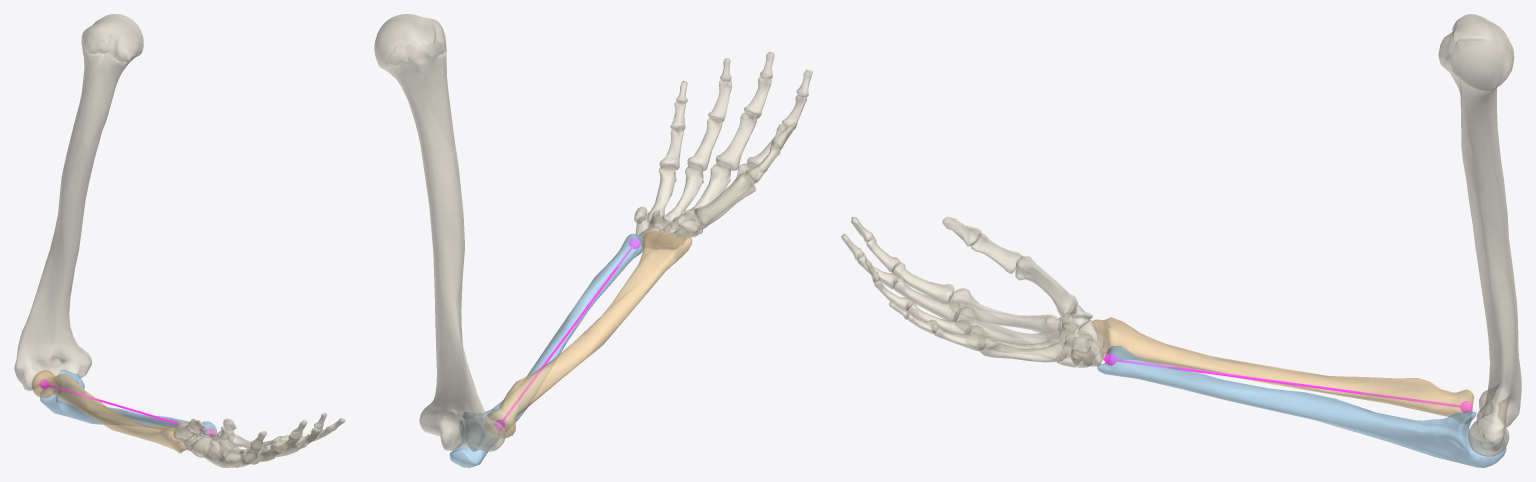
Rendered from forearm-headfit.glb.
3 renders of one model, left to right at view 1: azimuth 30°, elevation 25°; view 2: azimuth 150°, elevation 25°; view 3: azimuth 270°, elevation 25°, orthographic. The views are drawn at different scales.
Visible parts, largest first — view 1: Humerus.r-preview, Radius.r-preview, Ulna.r-preview, Second metacarpal bone.r-preview, Third metacarpal bone.l-preview, Proximal phalanx of third finger of hand-preview, Fifth metacarpal bone.r-preview, Proximal phalanx of second finger of hand-preview, Proximal phalanx of fourth finger of hand-preview, Estimated axis — non-anatomical review guide, Fourth metacarpal bone-preview; view 2: Humerus.r-preview, Radius.r-preview, Ulna.r-preview, First metacarpal bone-preview, Second metacarpal bone.r-preview, Proximal phalanx of third finger of hand-preview, Third metacarpal bone.l-preview, Fourth metacarpal bone-preview, Fifth metacarpal bone.r-preview, Proximal phalanx of fourth finger of hand-preview, Proximal phalanx of second finger of hand-preview, Proximal phalanx of fifth finger of hand-preview (+4 smaller); view 3: Humerus.r-preview, Ulna.r-preview, Radius.r-preview, Second metacarpal bone.r-preview, Third metacarpal bone.l-preview, First metacarpal bone-preview, Fourth metacarpal bone-preview, Fifth metacarpal bone.r-preview, Proximal phalanx of third finger of hand-preview, Estimated axis — non-anatomical review guide, Proximal phalanx of second finger of hand-preview, Proximal phalanx of first finger of hand-preview (+2 smaller).
Boxes of the visible parts, bbox=[...] form: Humerus.r-preview: bbox=[14, 14, 143, 390]; Radius.r-preview: bbox=[31, 370, 200, 453]; Ulna.r-preview: bbox=[40, 369, 216, 437]; Second metacarpal bone.r-preview: bbox=[191, 435, 239, 467]; Third metacarpal bone.l-preview: bbox=[205, 440, 259, 464]; Proximal phalanx of third finger of hand-preview: bbox=[246, 442, 285, 462]; Fifth metacarpal bone.r-preview: bbox=[226, 433, 286, 448]; Proximal phalanx of second finger of hand-preview: bbox=[224, 453, 254, 467]; Proximal phalanx of fourth finger of hand-preview: bbox=[264, 439, 304, 457]; Estimated axis — non-anatomical review guide: bbox=[46, 384, 205, 431]; Fourth metacarpal bone-preview: bbox=[219, 438, 274, 461]; Humerus.r-preview: bbox=[374, 14, 505, 451]; Radius.r-preview: bbox=[485, 230, 692, 438]; Ulna.r-preview: bbox=[449, 233, 645, 467]; First metacarpal bone-preview: bbox=[694, 172, 755, 226]; Second metacarpal bone.r-preview: bbox=[684, 163, 758, 229]; Proximal phalanx of third finger of hand-preview: bbox=[715, 112, 757, 170]; Third metacarpal bone.l-preview: bbox=[672, 164, 731, 235]; Fourth metacarpal bone-preview: bbox=[661, 166, 703, 229]; Fifth metacarpal bone.r-preview: bbox=[647, 165, 676, 223]; Proximal phalanx of fourth finger of hand-preview: bbox=[687, 117, 722, 171]; Proximal phalanx of second finger of hand-preview: bbox=[747, 124, 792, 172]; Proximal phalanx of fifth finger of hand-preview: bbox=[659, 127, 683, 169]; Humerus.r-preview: bbox=[1438, 14, 1521, 456]; Ulna.r-preview: bbox=[1097, 345, 1506, 467]; Radius.r-preview: bbox=[1091, 317, 1473, 423]; Second metacarpal bone.r-preview: bbox=[948, 288, 1061, 338]; Third metacarpal bone.l-preview: bbox=[954, 306, 1059, 347]; First metacarpal bone-preview: bbox=[1015, 256, 1077, 317]; Fourth metacarpal bone-preview: bbox=[965, 325, 1061, 359]; Fifth metacarpal bone.r-preview: bbox=[978, 336, 1067, 362]; Proximal phalanx of third finger of hand-preview: bbox=[894, 276, 960, 321]; Estimated axis — non-anatomical review guide: bbox=[1116, 359, 1460, 407]; Proximal phalanx of second finger of hand-preview: bbox=[892, 262, 954, 304]; Proximal phalanx of first finger of hand-preview: bbox=[971, 233, 1022, 273].
Size of the model in its own units: 0.1397 by 0.3302 by 0.4277.
